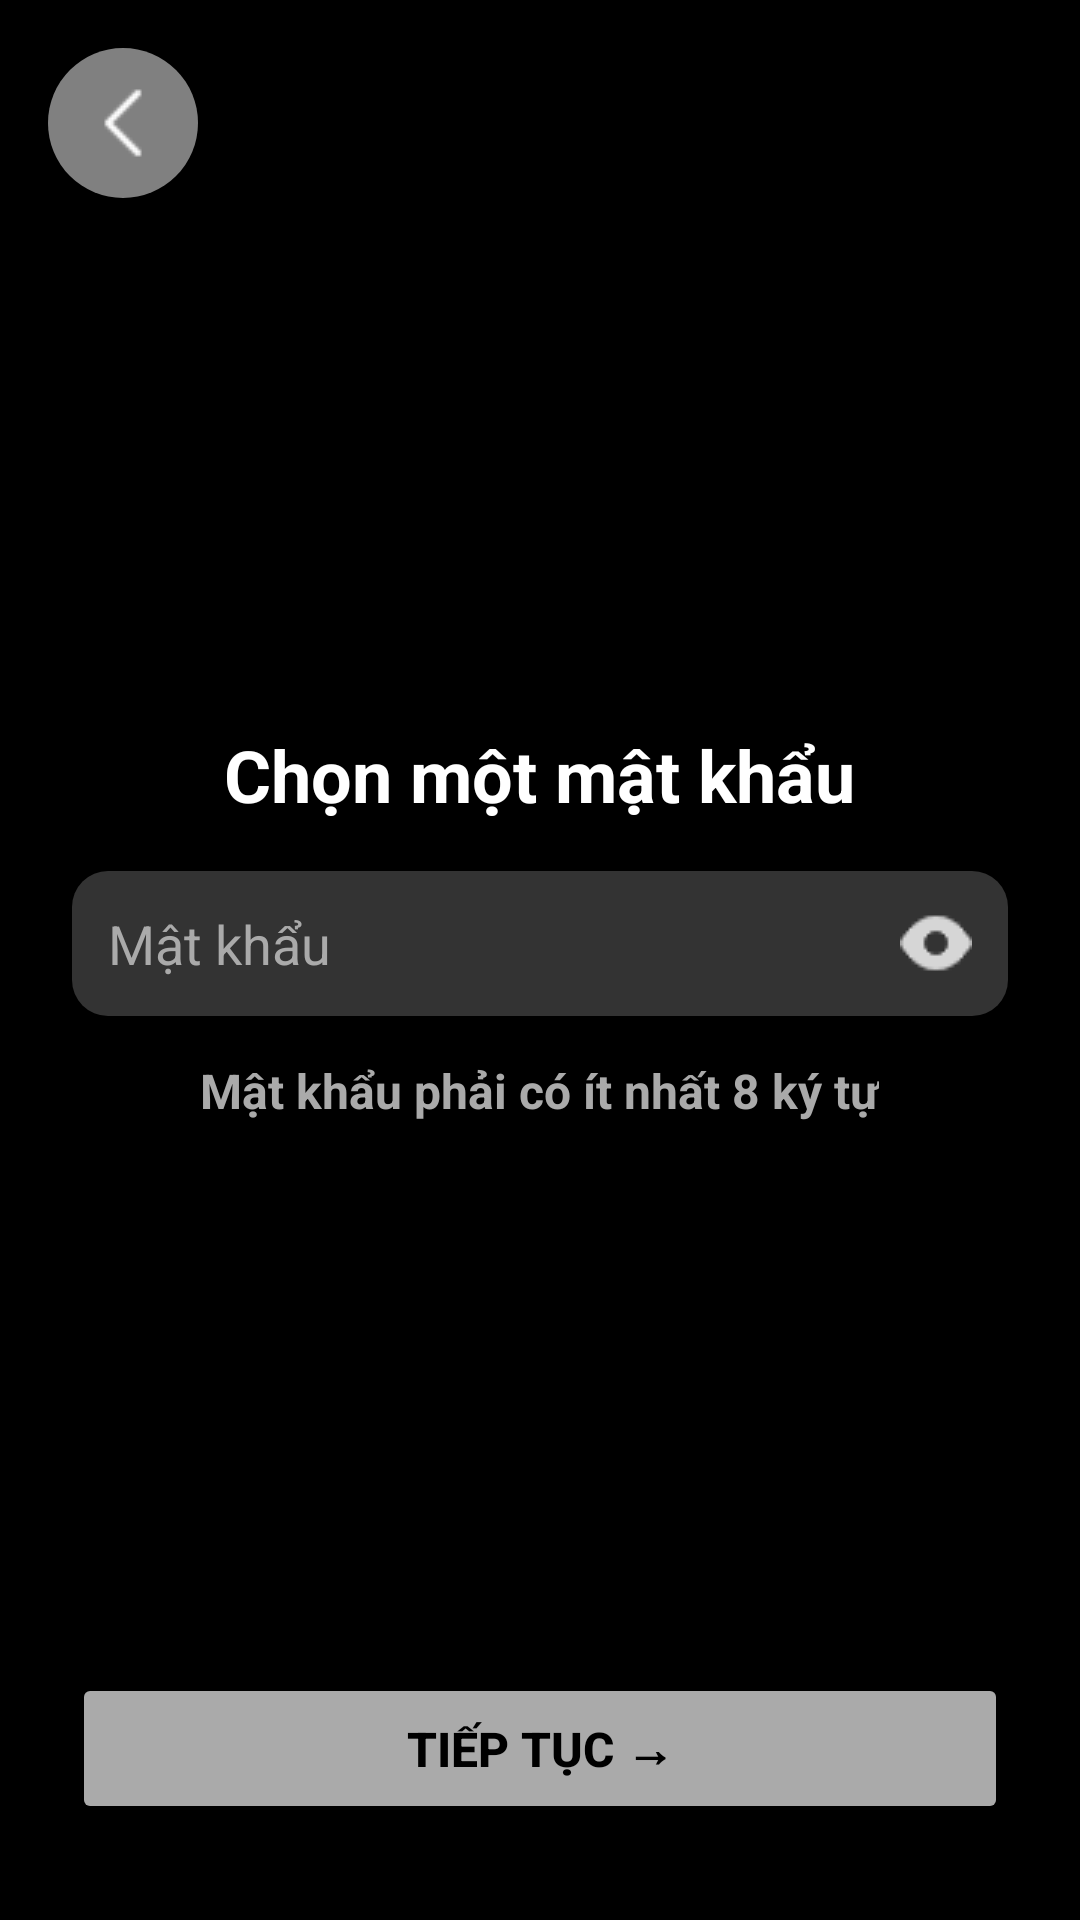

Icons on this 1080×1920 Android screen, each with its box as Rect(x1, y1, x2, y2):
Toggle password visibility: Rect(864, 871, 1008, 1015)
Trờ về: Rect(48, 48, 198, 198)
